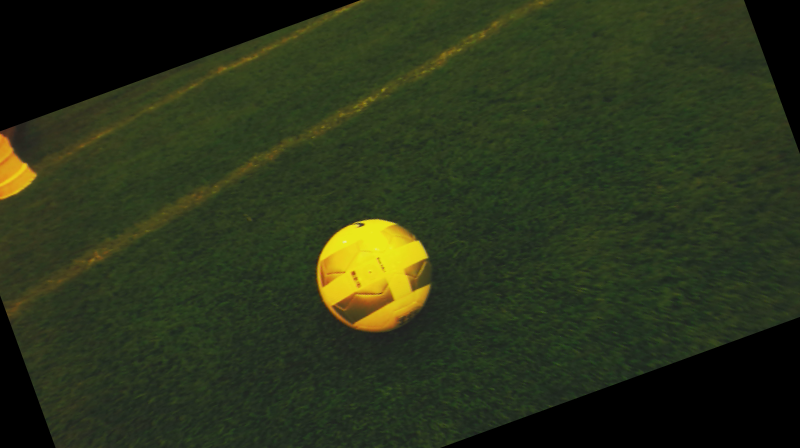post: (1, 130, 47, 217)
